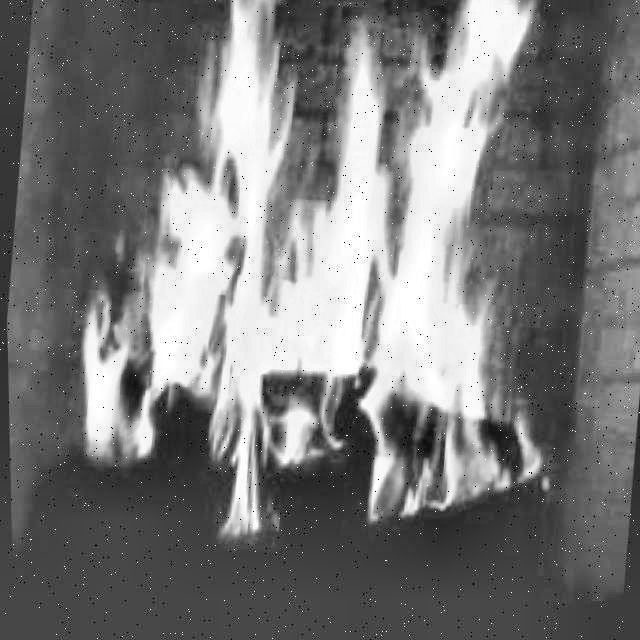Fire: (45, 0, 606, 595)
